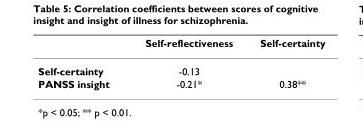table: (37, 36, 324, 89)
table column: (126, 36, 245, 89), (37, 36, 126, 89), (245, 36, 324, 89)
table column header: (37, 36, 324, 56)
table row: (37, 56, 324, 77), (37, 36, 324, 56), (37, 77, 324, 89)
